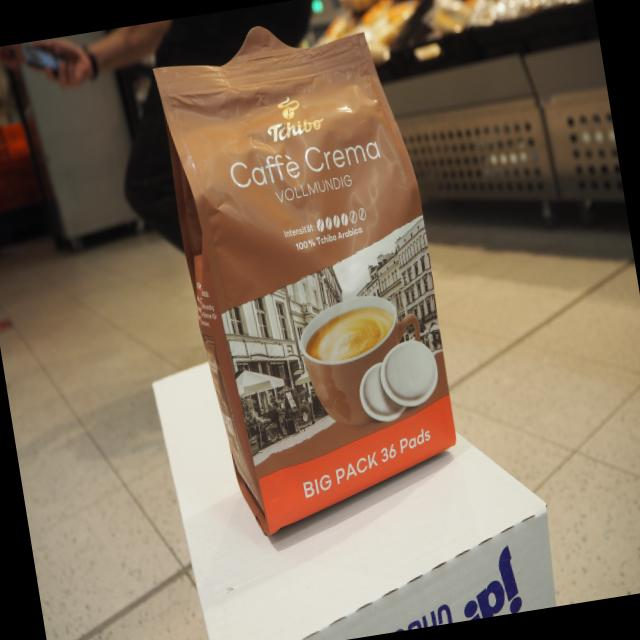CC Vollmundig: (129, 0, 470, 564)
